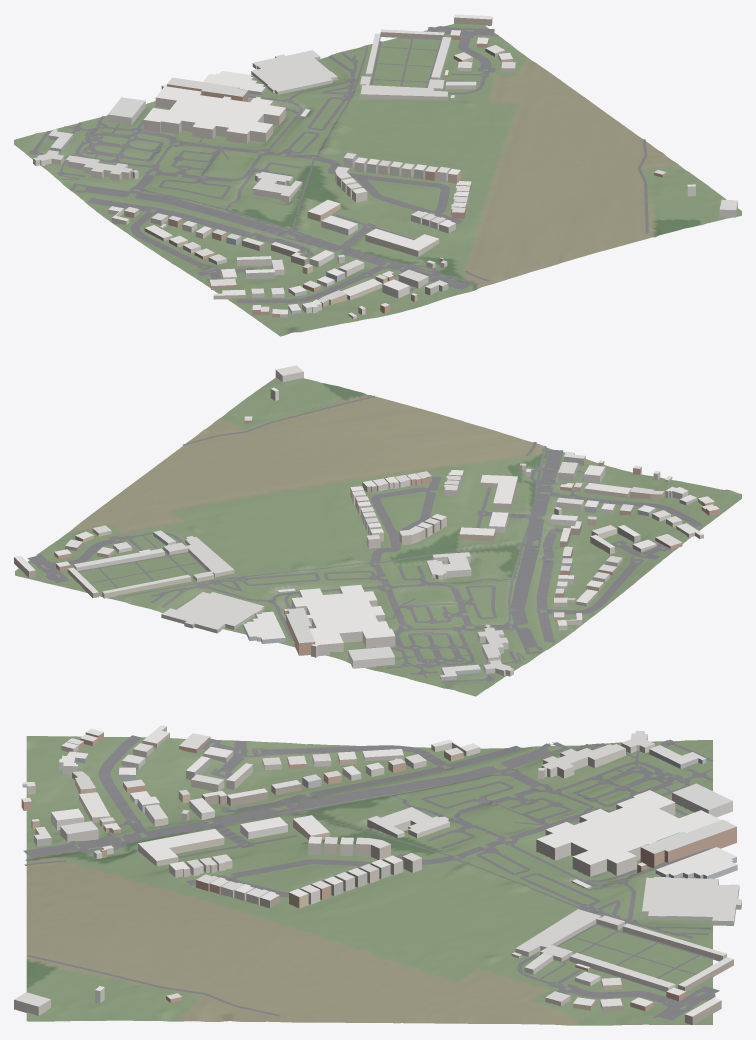
3 views of the same model, one above another, from view 1: azimuth 30°, elevation 25°; view 2: azimuth 150°, elevation 25°; view 3: azimuth 270°, elevation 25° (orthographic). The views are drawn at different scales.
Parts seen in each view (by area): view 1: prim0, prim1, prim2; view 2: prim0, prim1, prim2; view 3: prim0, prim1, prim2.
Boxes of the visible parts, bbox=[...] form: prim0: bbox=[14, 23, 741, 336]; prim1: bbox=[33, 14, 737, 319]; prim2: bbox=[28, 26, 648, 303]; prim0: bbox=[15, 377, 741, 696]; prim1: bbox=[14, 365, 719, 680]; prim2: bbox=[27, 395, 702, 683]; prim0: bbox=[26, 736, 712, 1025]; prim1: bbox=[14, 725, 741, 1024]; prim2: bbox=[23, 735, 719, 1020].
Size of the model in its own units: 538 by 34.87 by 543.
